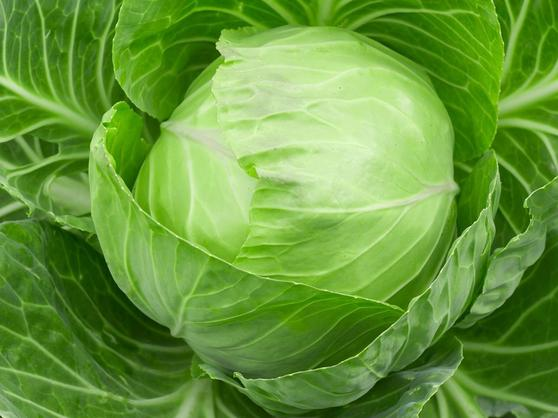cabbage: (122, 15, 509, 376)
